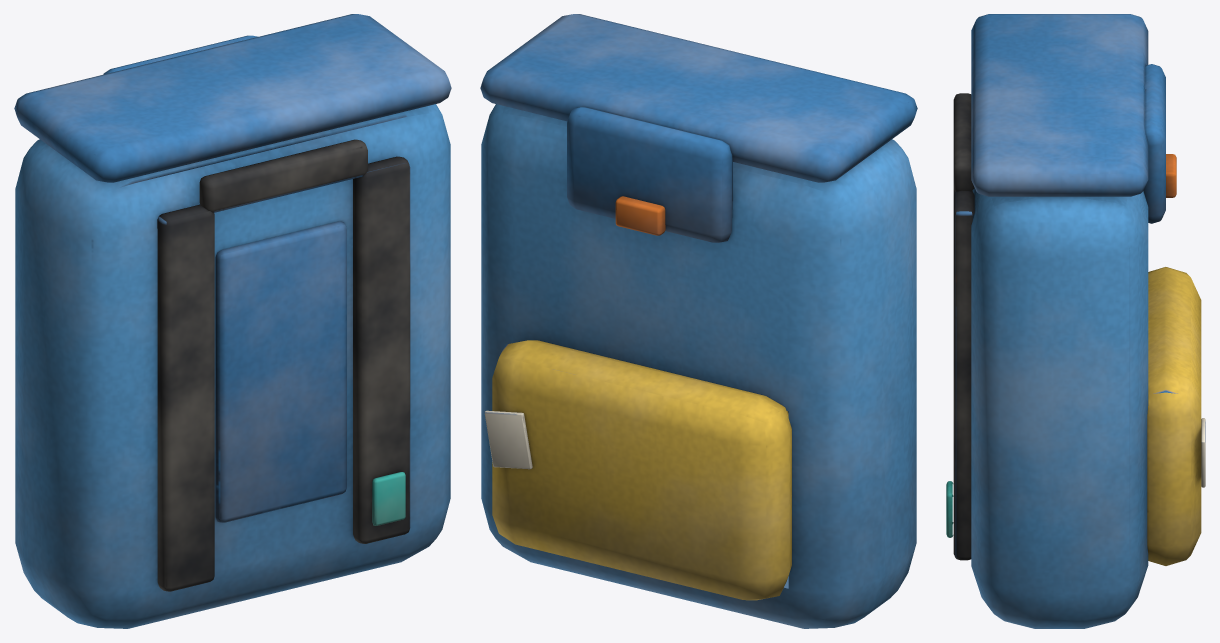
The model's file is school_backpack.fbx.
The picture shows the model from 3 angles, left to right: view 1: azimuth 30°, elevation 25°; view 2: azimuth 150°, elevation 25°; view 3: azimuth 270°, elevation 25°; orthographic projection. The views are drawn at different scales.
Parts seen in each view (by area): view 1: Body, Flap; view 2: Body, Flap; view 3: Body, Flap.
Part boxes in pixels (x1,y1,x2,y2): Body: [15, 104, 450, 628]; Flap: [14, 14, 451, 182]; Body: [481, 104, 916, 628]; Flap: [480, 14, 917, 242]; Body: [946, 93, 1205, 628]; Flap: [971, 14, 1176, 223].
Size of the model in its own units: 1.2 by 1.47 by 0.732.
Materials: 1 (1 with a texture image).
